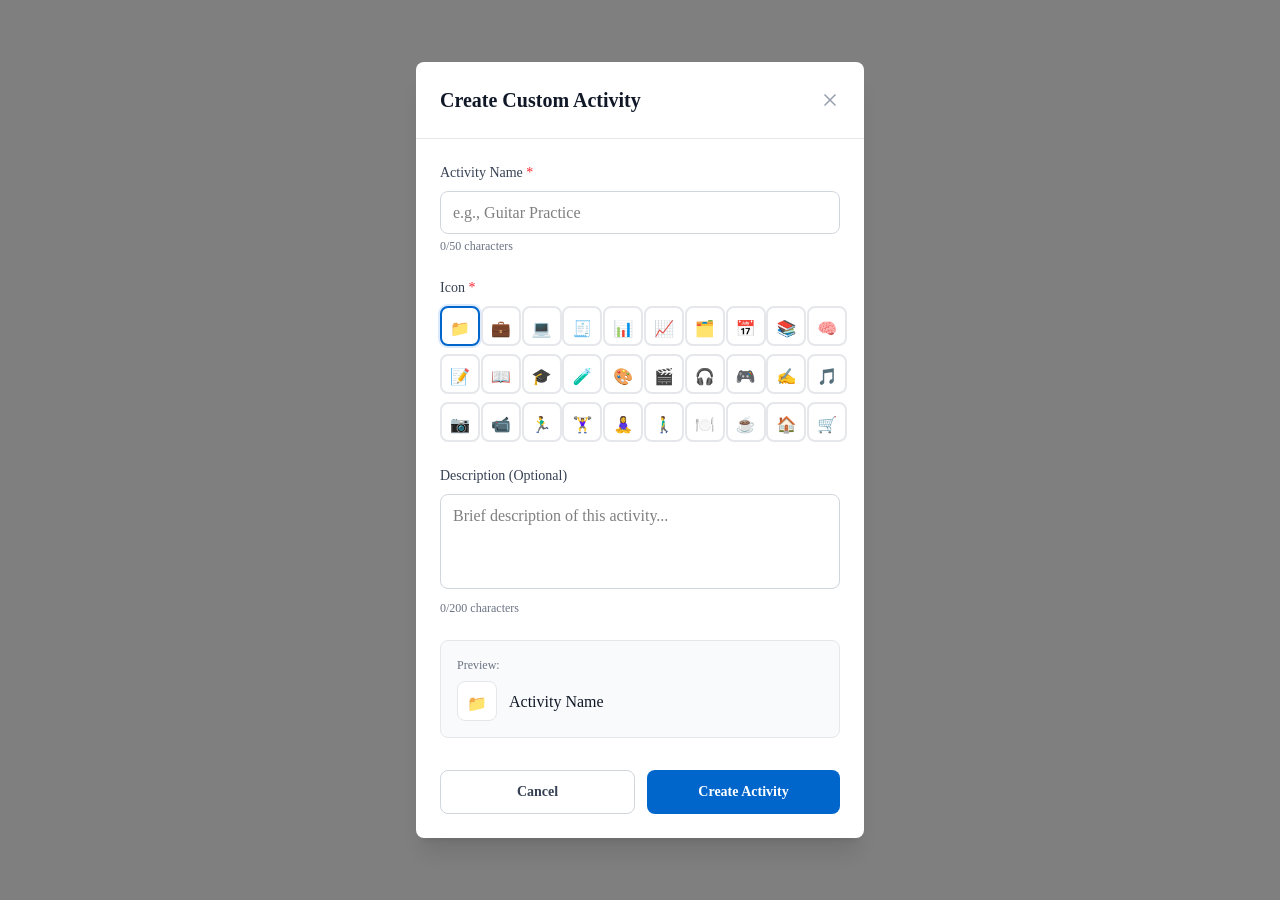
CreateCustomActivityModal › Form Validation › should require activity name
Step 1. Click the button "Create Activity" → [744, 792], box [647,770,840,814]
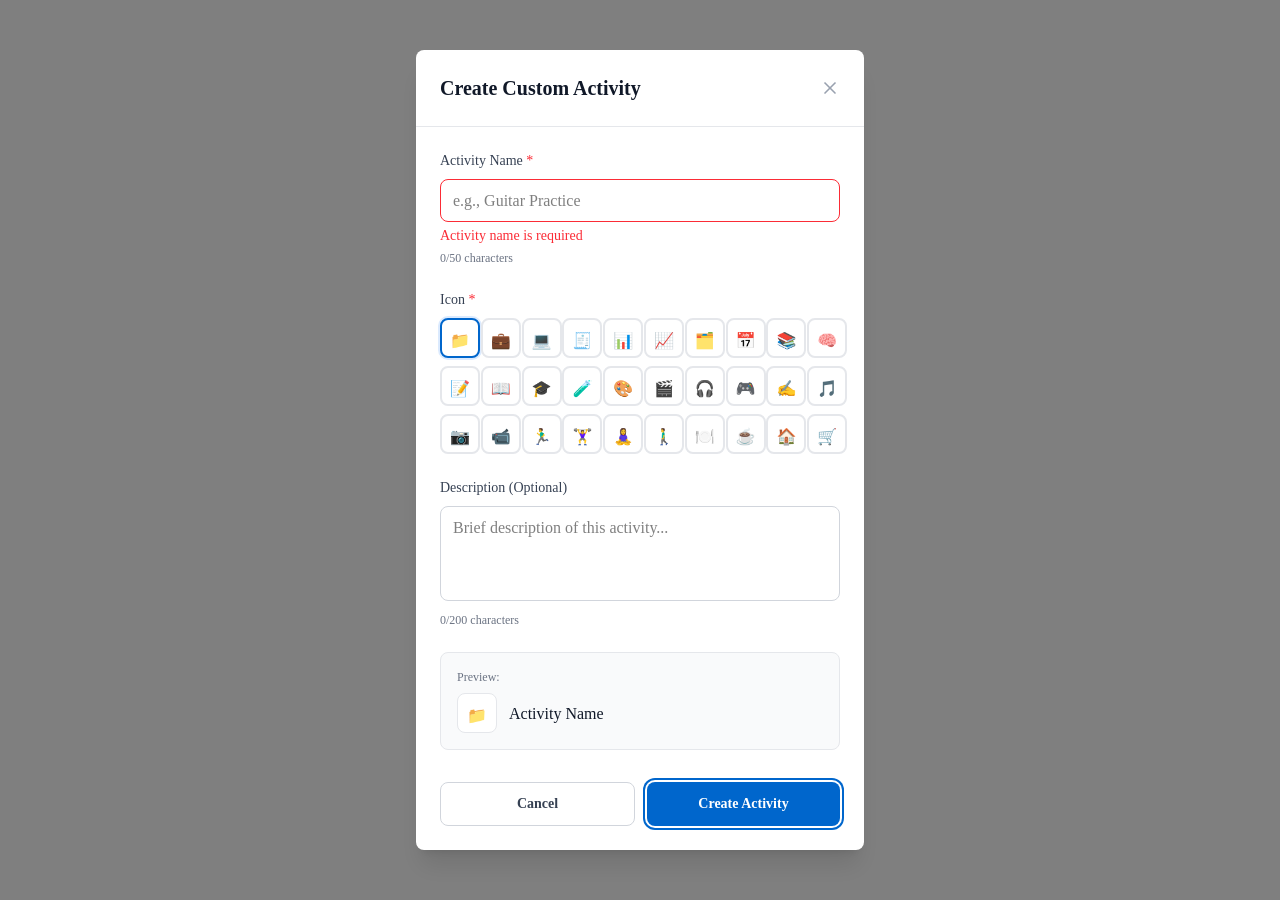
Expected: the text "Activity name is required" is shown, [440,228,583,243]
